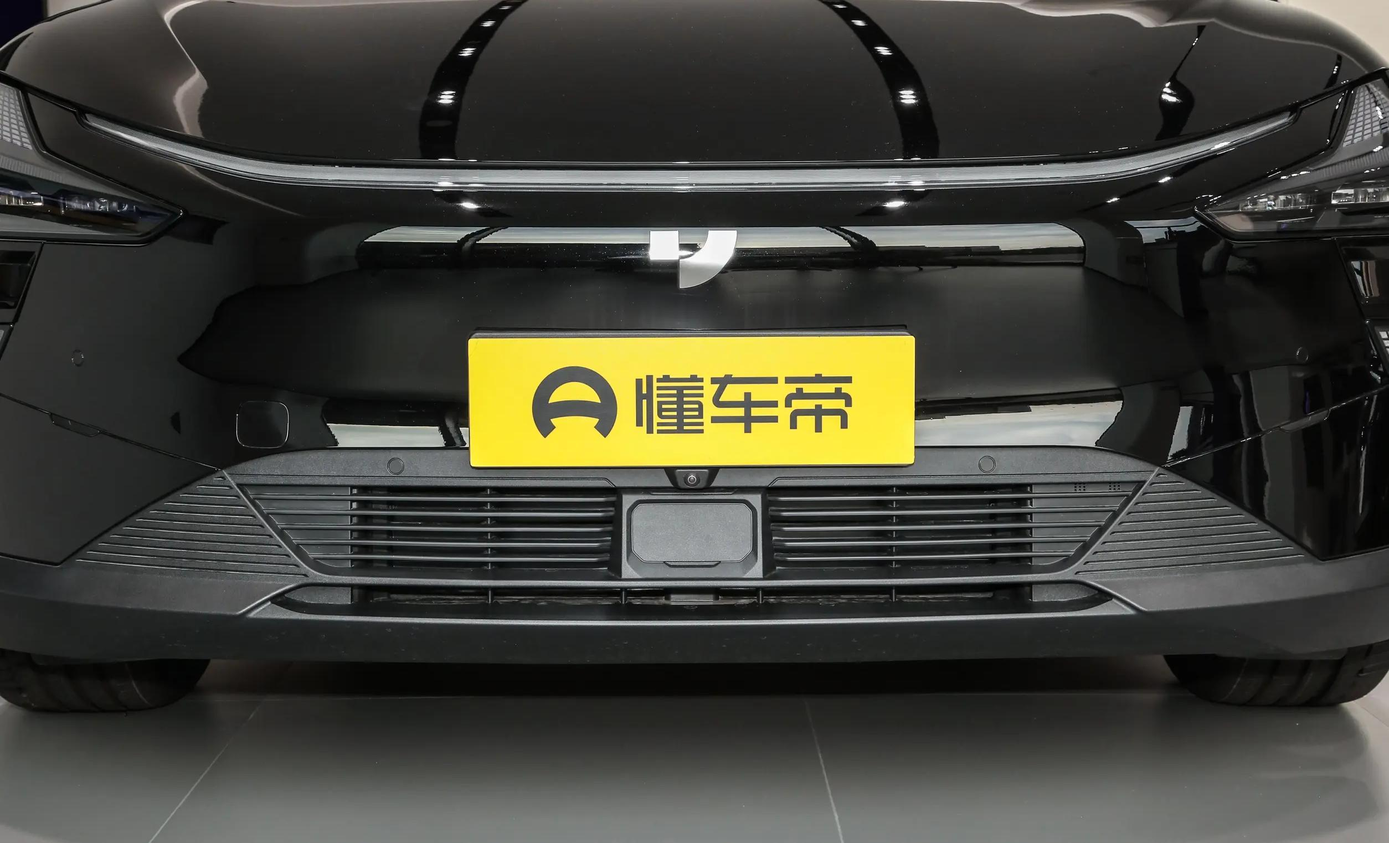JIYUE: (649, 228, 740, 289)
